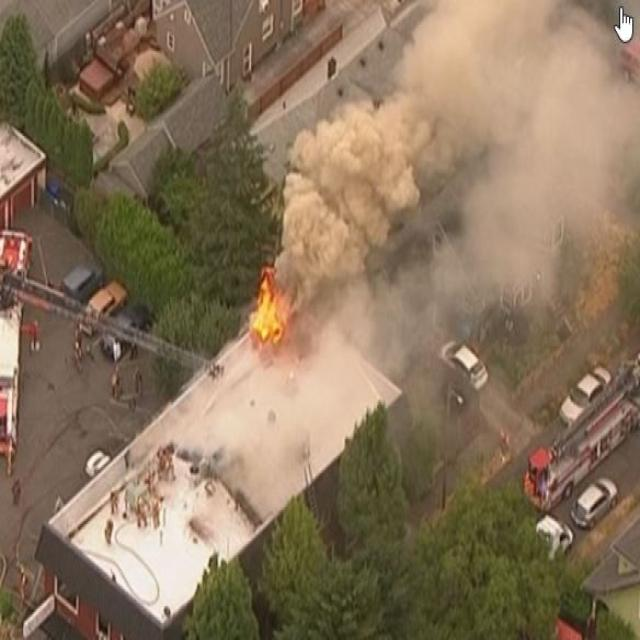Fire: (254, 263, 307, 360)
Smoke: (280, 0, 640, 325)
